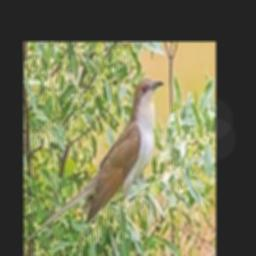Cuckoo: (28, 77, 164, 240)
